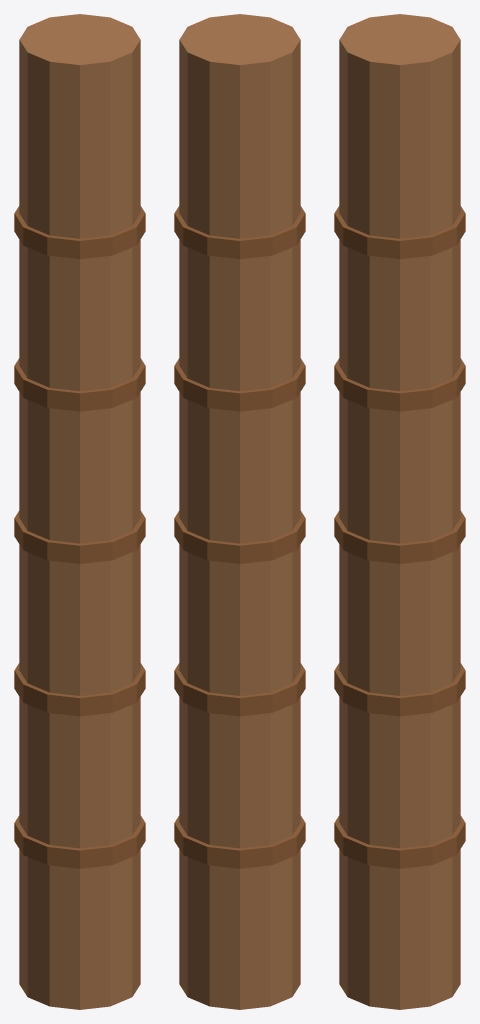
Rendered from palm_trunk.glb.
3 views of the same model, side by side, from view 1: azimuth 30°, elevation 25°; view 2: azimuth 150°, elevation 25°; view 3: azimuth 330°, elevation 25° (orthographic).
Parts seen in each view (by area): view 1: palm_trunk; view 2: palm_trunk; view 3: palm_trunk.
Boxes of the visible parts, x1=… form: palm_trunk: x1=14, y1=14, x2=145, y2=1009; palm_trunk: x1=174, y1=14, x2=305, y2=1009; palm_trunk: x1=334, y1=14, x2=465, y2=1009.
Size of the model in its own units: 0.39 by 3.1 by 0.39.
